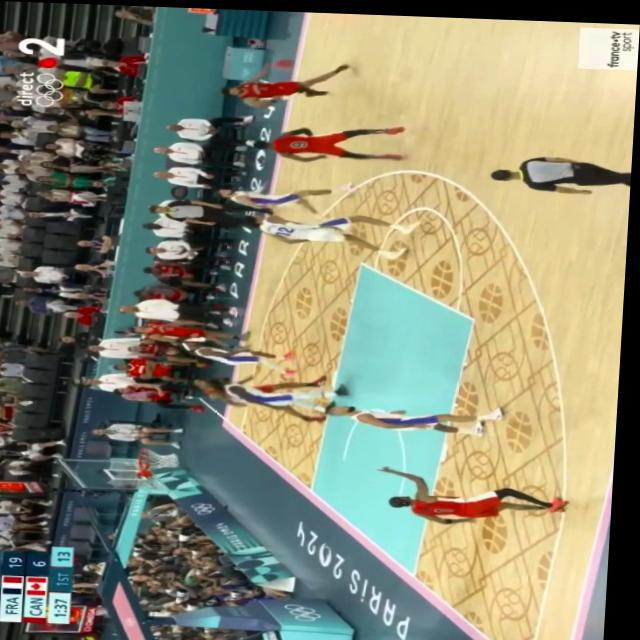ball_handler: (223, 55, 353, 105)
